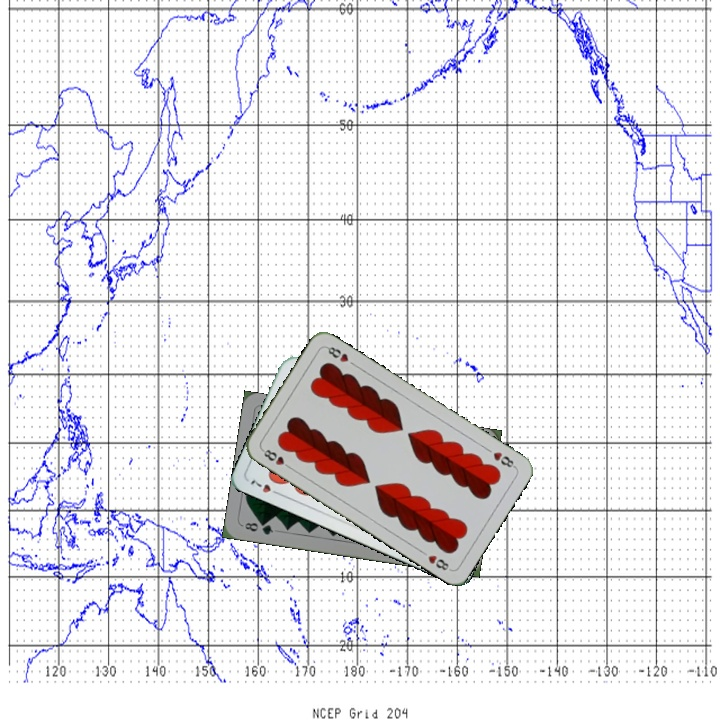G8: (239, 518, 276, 537)
H7: (246, 475, 284, 498)
H8: (258, 445, 294, 472), (489, 447, 518, 470)
